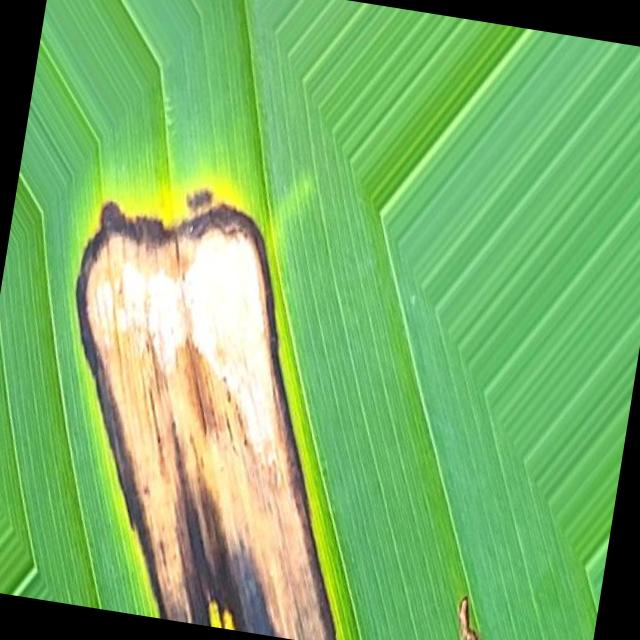Banana_Black_Sigatoka: (2, 112, 423, 640)
